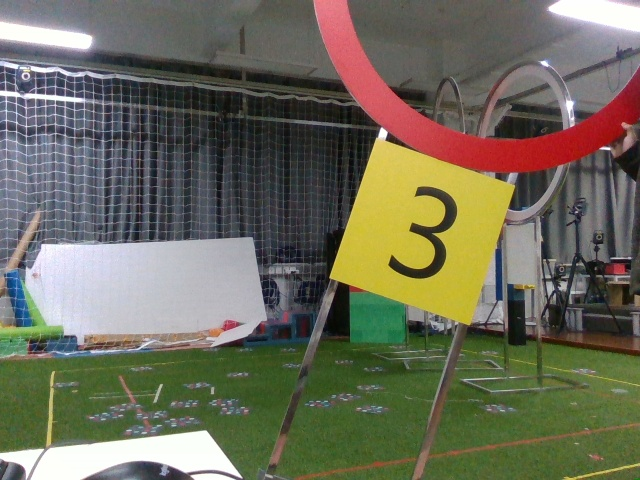target: (352, 161, 496, 308)
